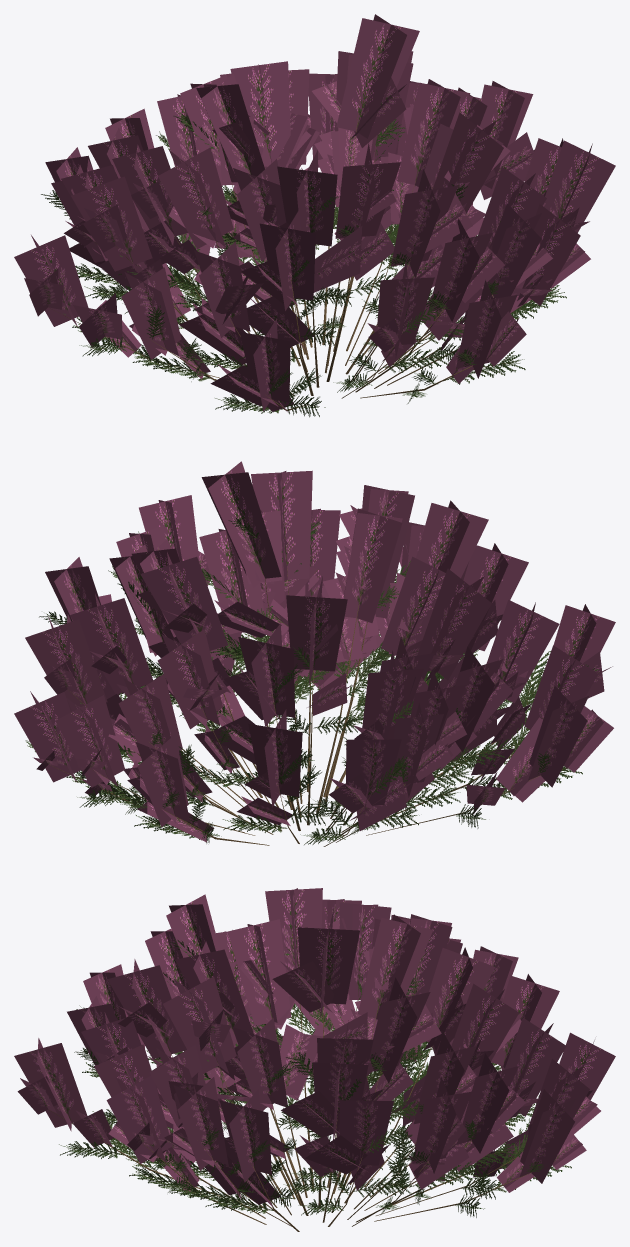
File: common-heather.glb
The picture shows the model from 3 angles, top to bottom: view 1: azimuth 30°, elevation 25°; view 2: azimuth 150°, elevation 25°; view 3: azimuth 270°, elevation 25°; orthographic projection. The views are drawn at different scales.
Visible parts, largest first — view 1: Common Heather; view 2: Common Heather; view 3: Common Heather.
Boxes of the visible parts, x1,y1,x2,y2 form: Common Heather: [14, 14, 615, 417]; Common Heather: [14, 461, 615, 846]; Common Heather: [14, 888, 615, 1231].
Size of the model in its own units: 1.01 by 0.6128 by 1.04.
3 materials, 3 textured.
